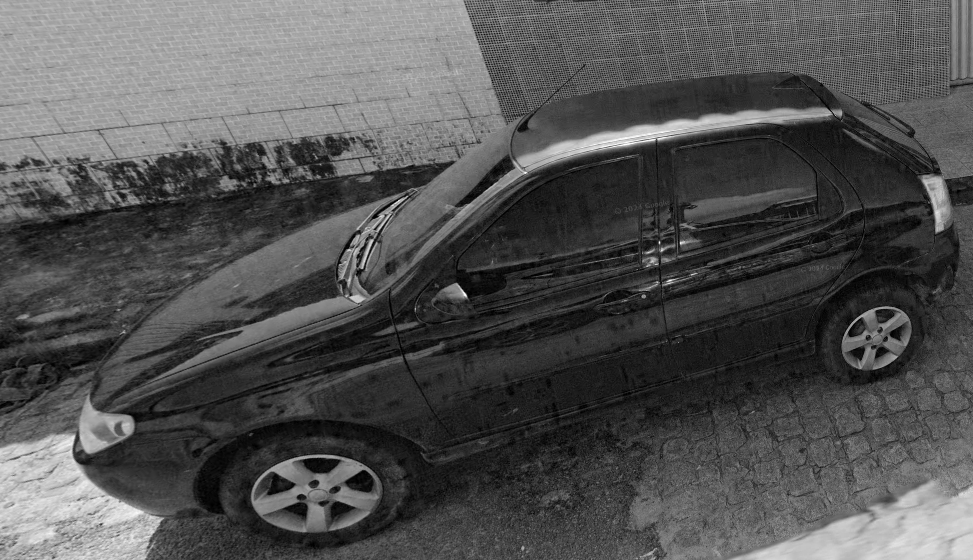car: (83, 72, 953, 534)
